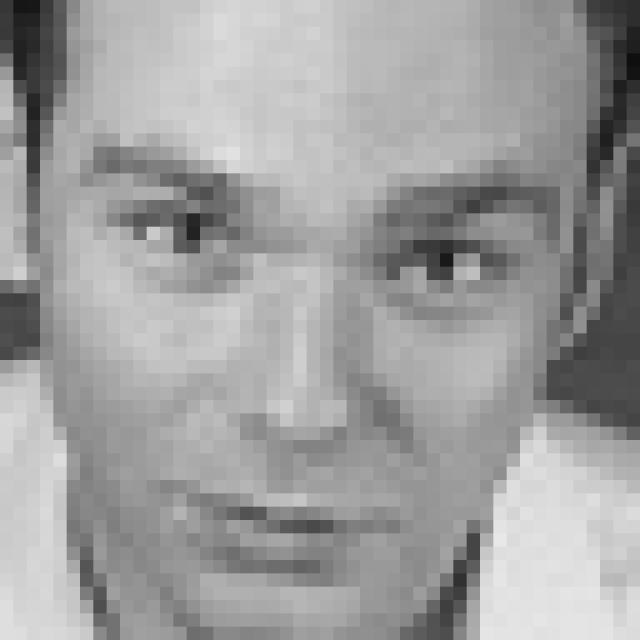neutral: (69, 136, 561, 585)
